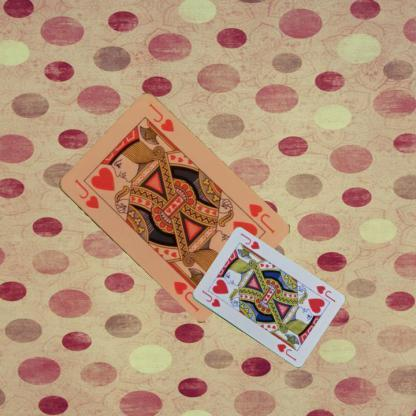Jh: (245, 201, 276, 235), (71, 176, 101, 210), (198, 287, 221, 309), (313, 283, 337, 304)
